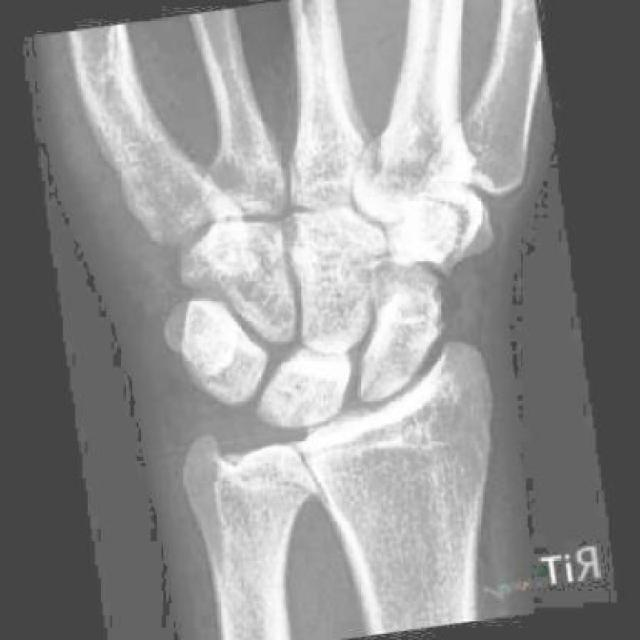Fracture: (165, 197, 278, 300)
